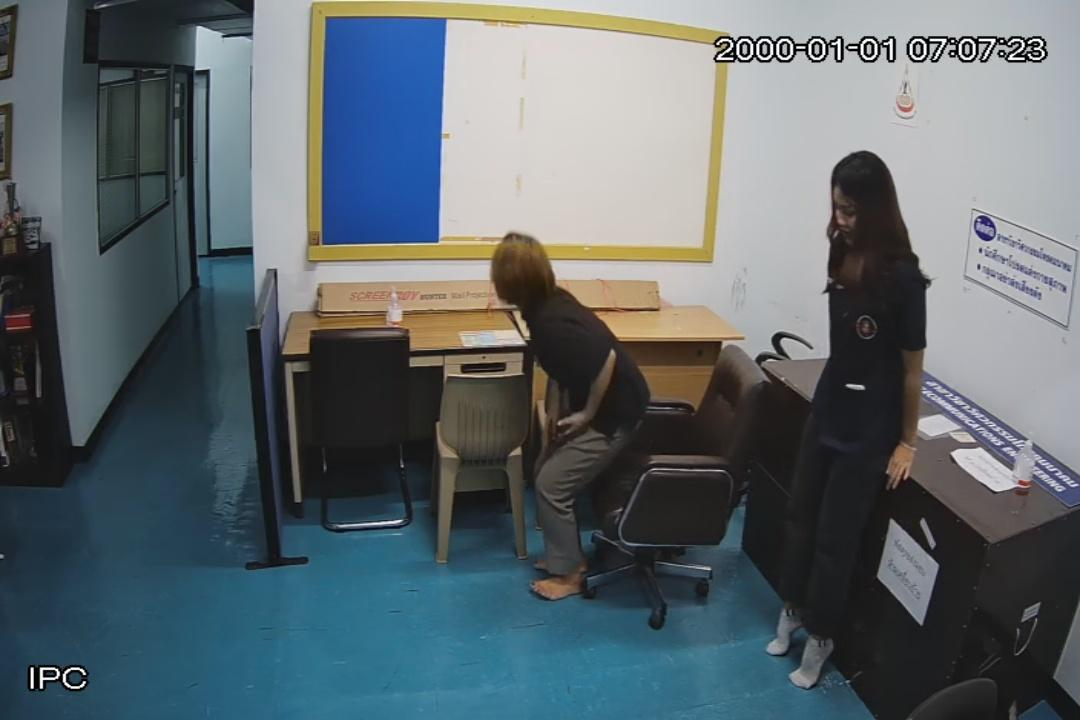normal: (752, 150, 942, 700), (494, 216, 660, 614)
